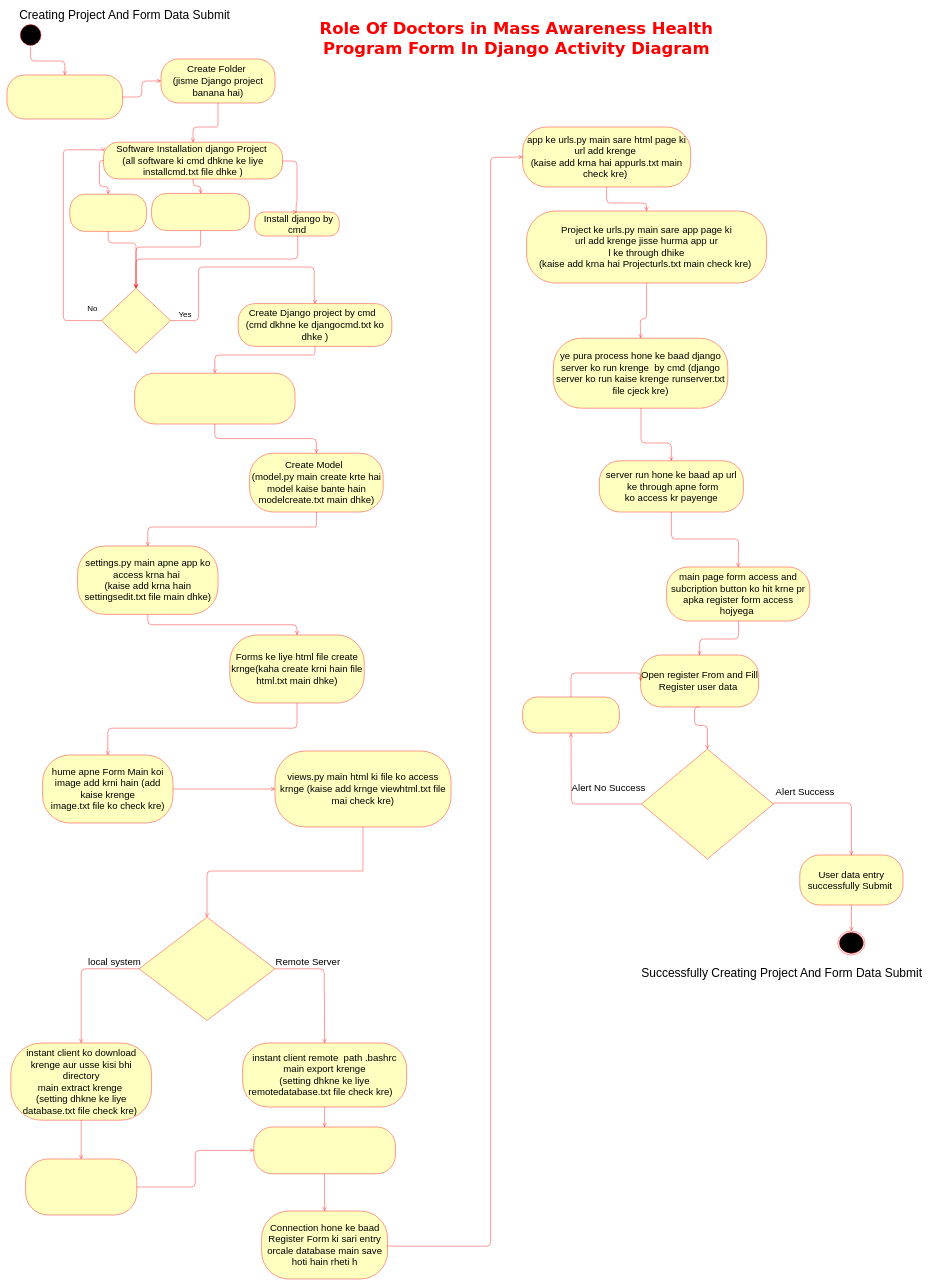
This 936x1286 diagram has some shape labels left out. The shapes that lost their labels are listed below. From the top down, each one's box as (x1, y1, x2, y2) in pixels, then its label:
(7, 75, 123, 119): login Server (ssh server ip and username and password)
(69, 194, 147, 231): Then install python (pip) by cmd
(151, 193, 250, 231): install virtualenvironment by cmd
(101, 288, 171, 353): Installation successful ?
(134, 373, 295, 424): Create Django app by cmd (cmd dkhne ke djangocmdapp.txt ko dhke )
(522, 697, 619, 733): again fill the form contiune prossess
(641, 749, 773, 859): Pura form Fill hone ke baad submt pe click krne pr ?
(139, 917, 275, 1020): installation orcale instant client remote and local system ?
(253, 1127, 395, 1174): Ye path .bashrc main export krte hi oracle database se link ho jata hai
(25, 1159, 137, 1215): instant client local path .bashrc main export krenge
